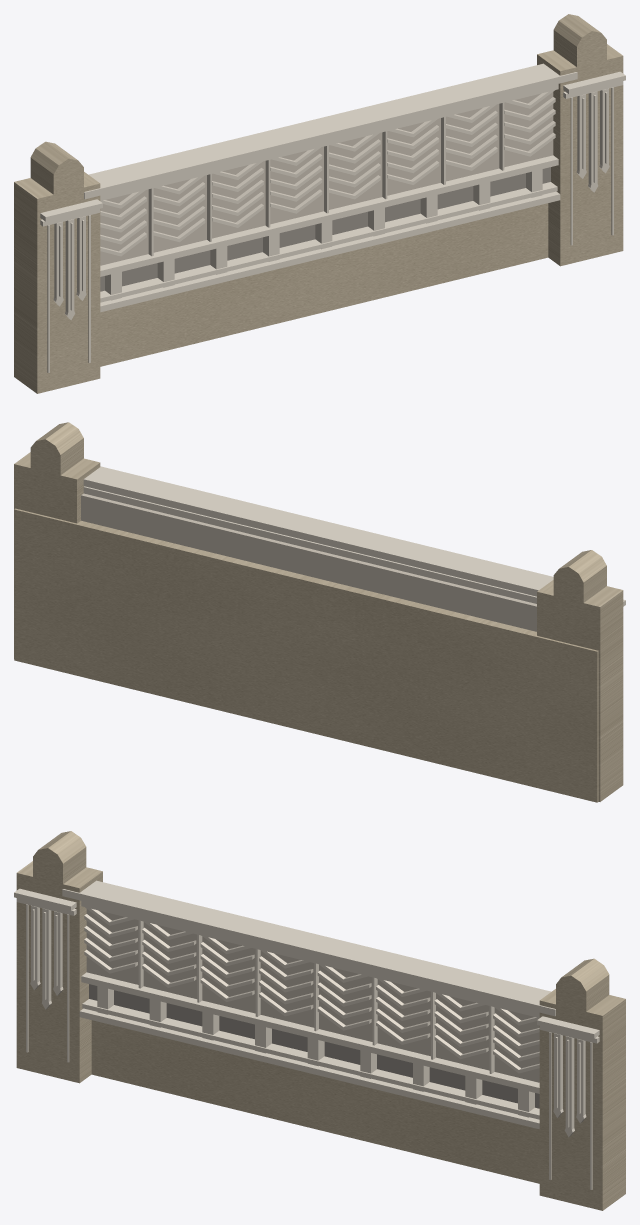
Rendered from xiangyang-apartments-chevron-frieze-near.glb.
3 renders of one model, top to bottom at view 1: azimuth 30°, elevation 25°; view 2: azimuth 150°, elevation 25°; view 3: azimuth 330°, elevation 25°, orthographic.
Visible parts, largest first — view 1: 襄阳公寓顶层折纹饰带与悬垂边柱; view 2: 襄阳公寓顶层折纹饰带与悬垂边柱; view 3: 襄阳公寓顶层折纹饰带与悬垂边柱.
Part boxes in pixels (x1=…): 襄阳公寓顶层折纹饰带与悬垂边柱: x1=14, y1=14, x2=625, y2=393; 襄阳公寓顶层折纹饰带与悬垂边柱: x1=14, y1=422, x2=625, y2=802; 襄阳公寓顶层折纹饰带与悬垂边柱: x1=14, y1=831, x2=625, y2=1210.
Bounding box in the file's own units: 3.9 × 1.45 × 0.347.
Materials: 4 (1 with a texture image).
